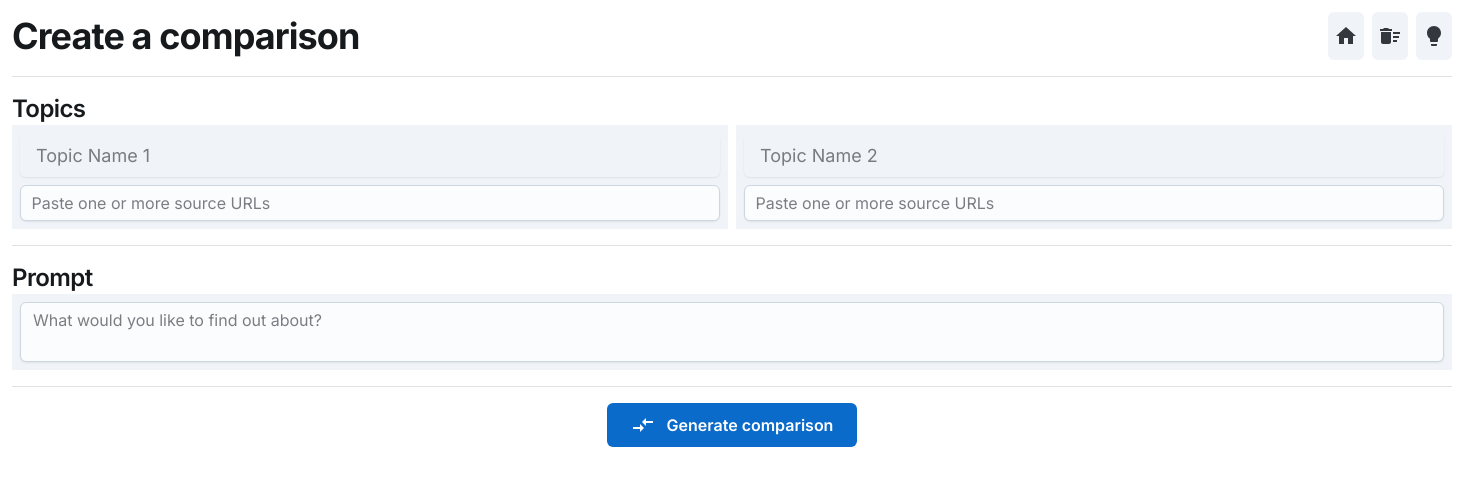
compare/index › should populate the form when the sample data button is pressed
Click the button with test id "compare-sample-button" at (1434, 36), box [1416,12,1452,60]
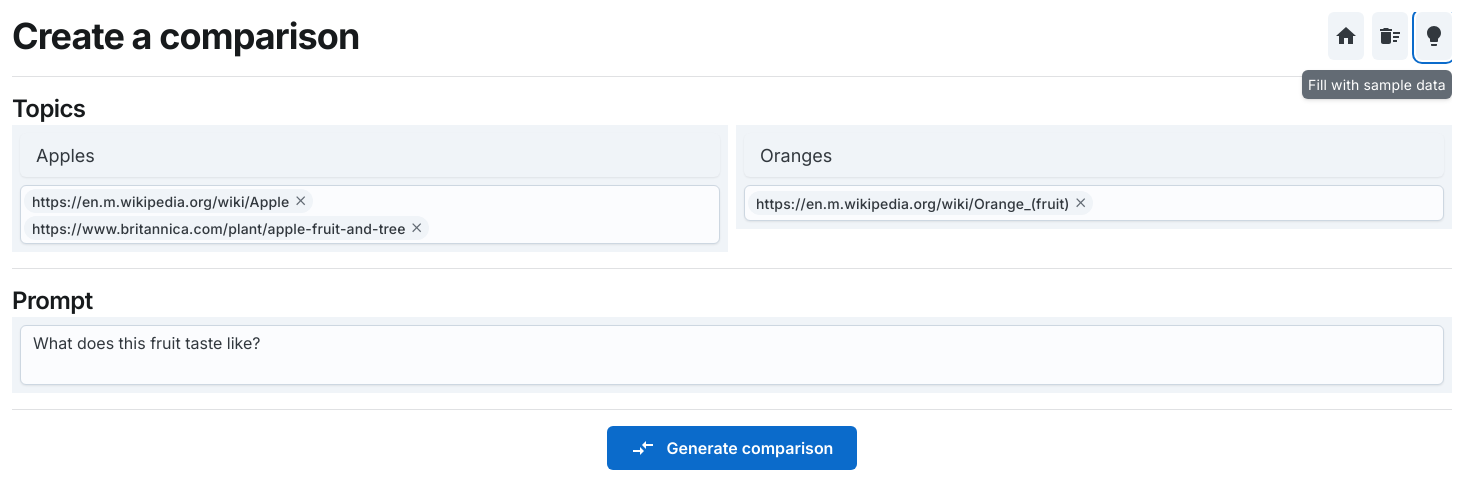
Expected: the 1st field is not empty, [36,133,704,177]
Expected: the 2nd field is not empty, [760,133,1428,177]
Expected: the text box is not empty, [33,331,1443,379]
